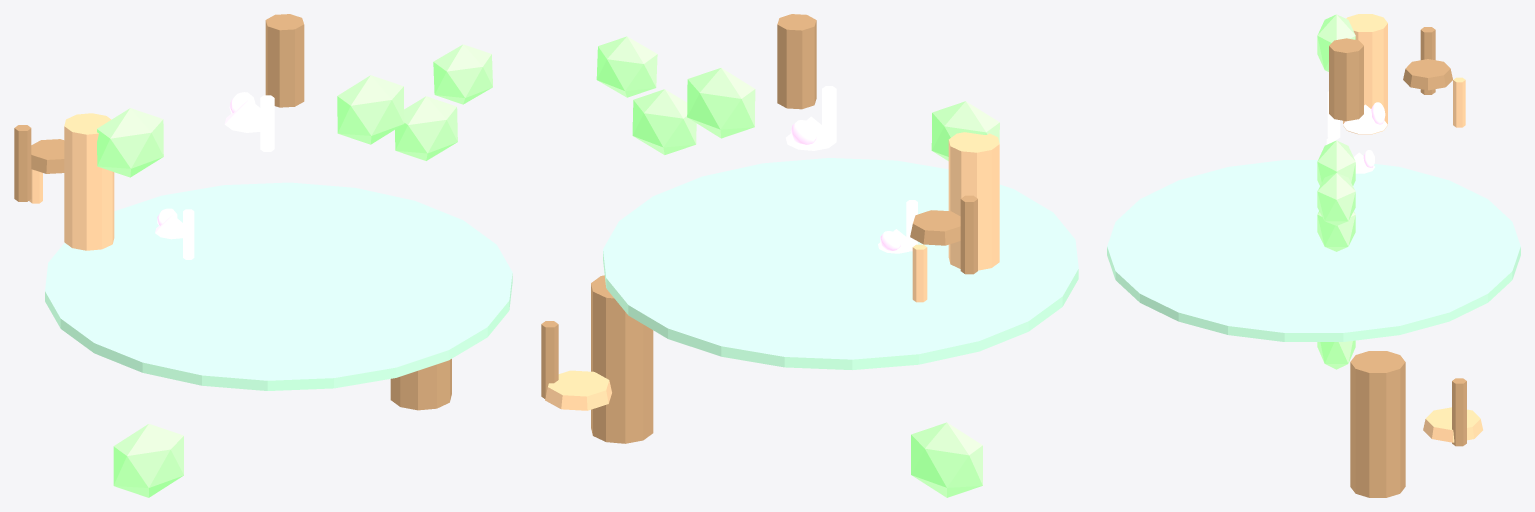
File: swamp.glb
3 renders of one model, left to right at view 1: azimuth 30°, elevation 25°; view 2: azimuth 150°, elevation 25°; view 3: azimuth 270°, elevation 25°, orthographic. The views are drawn at different scales.
Visible parts, largest first — view 1: swamp_pool, stump1, moss_1, moss_0, moss_3, stump3, moss_2, moss_4, stump2, branch1a, stump1_top, mush_cap1 (+2 smaller); view 2: swamp_pool, stump2, stump1, moss_1, moss_0, stump3, moss_2, moss_4, stump2_top, moss_3, stump1_top, branch1a (+4 smaller); view 3: swamp_pool, stump2, stump3, stump1, moss_4, stump1_top, moss_0, stump2_top, moss_3, moss_2, branch2a, moss_1 (+3 smaller).
Boxes of the visible parts, x1=… form: swamp_pool: x1=45, y1=182, x2=512, y2=390; stump1: x1=64, y1=113, x2=114, y2=250; moss_1: x1=113, y1=424, x2=183, y2=497; moss_0: x1=337, y1=75, x2=404, y2=144; moss_3: x1=97, y1=108, x2=163, y2=177; stump3: x1=265, y1=14, x2=304, y2=107; moss_2: x1=395, y1=96, x2=457, y2=160; moss_4: x1=433, y1=44, x2=492, y2=104; stump2: x1=390, y1=359, x2=451, y2=410; branch1a: x1=14, y1=125, x2=31, y2=201; stump1_top: x1=31, y1=139, x2=64, y2=173; mush_cap1: x1=224, y1=99, x2=260, y2=132; swamp_pool: x1=603, y1=158, x2=1078, y2=369; stump2: x1=591, y1=275, x2=653, y2=443; stump1: x1=948, y1=132, x2=999, y2=270; moss_1: x1=911, y1=422, x2=982, y2=497; moss_0: x1=687, y1=68, x2=755, y2=138; stump3: x1=777, y1=14, x2=816, y2=109; moss_2: x1=632, y1=89, x2=696, y2=154; moss_4: x1=596, y1=36, x2=657, y2=97; stump2_top: x1=545, y1=370, x2=611, y2=410; moss_3: x1=931, y1=101, x2=999, y2=160; stump1_top: x1=910, y1=210, x2=960, y2=245; branch1a: x1=960, y1=195, x2=977, y2=274; swamp_pool: x1=1107, y1=160, x2=1520, y2=341; stump2: x1=1350, y1=351, x2=1405, y2=497; stump3: x1=1329, y1=38, x2=1363, y2=121; stump1: x1=1343, y1=14, x2=1387, y2=134; moss_4: x1=1317, y1=173, x2=1355, y2=225; stump1_top: x1=1403, y1=59, x2=1452, y2=90; moss_0: x1=1317, y1=140, x2=1355, y2=185; stump2_top: x1=1423, y1=407, x2=1482, y2=442; moss_3: x1=1317, y1=14, x2=1355, y2=71; moss_2: x1=1317, y1=211, x2=1355, y2=251; branch2a: x1=1452, y1=378, x2=1466, y2=446; moss_1: x1=1317, y1=340, x2=1355, y2=369.
Bounding box in the file's own units: 3.47 × 3.39 × 3.3.
